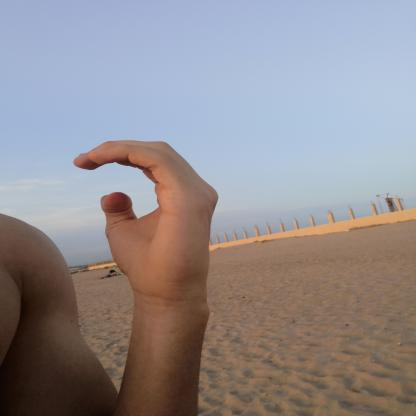JEEM: (56, 127, 234, 306)
